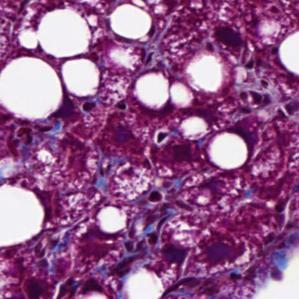inflammation: (233, 77, 276, 118), (142, 187, 169, 206), (152, 127, 174, 146)
